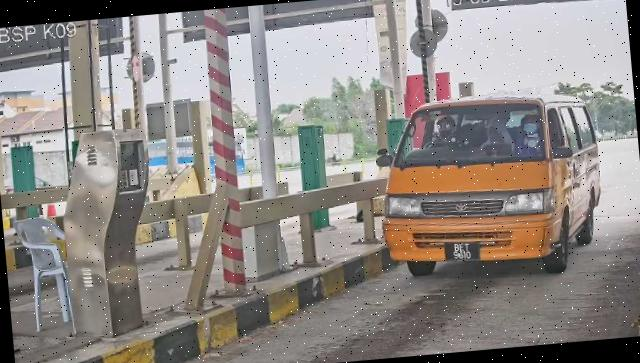License_Plate: (442, 238, 483, 266)
van: (373, 87, 609, 289)
